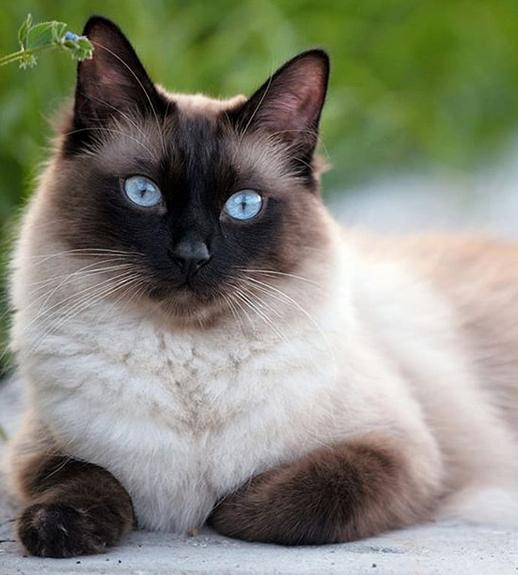siamese: (35, 9, 338, 324)
